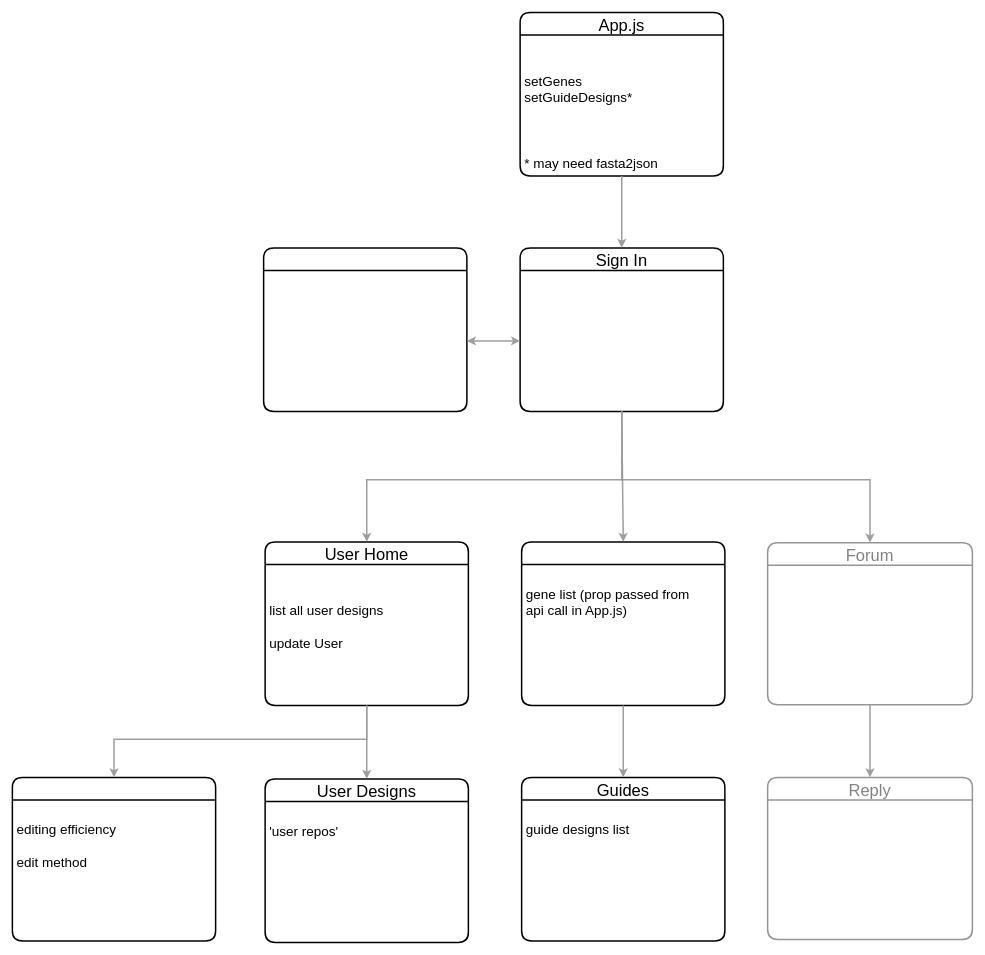
Some shapes in this 985 by 955 pixel diagram are drawn without their labels. Each missing label, with the box of its shape:
Edit Analytics: (11, 776, 216, 941)
Genes: (520, 541, 725, 706)
Sign Up: (262, 247, 467, 412)
